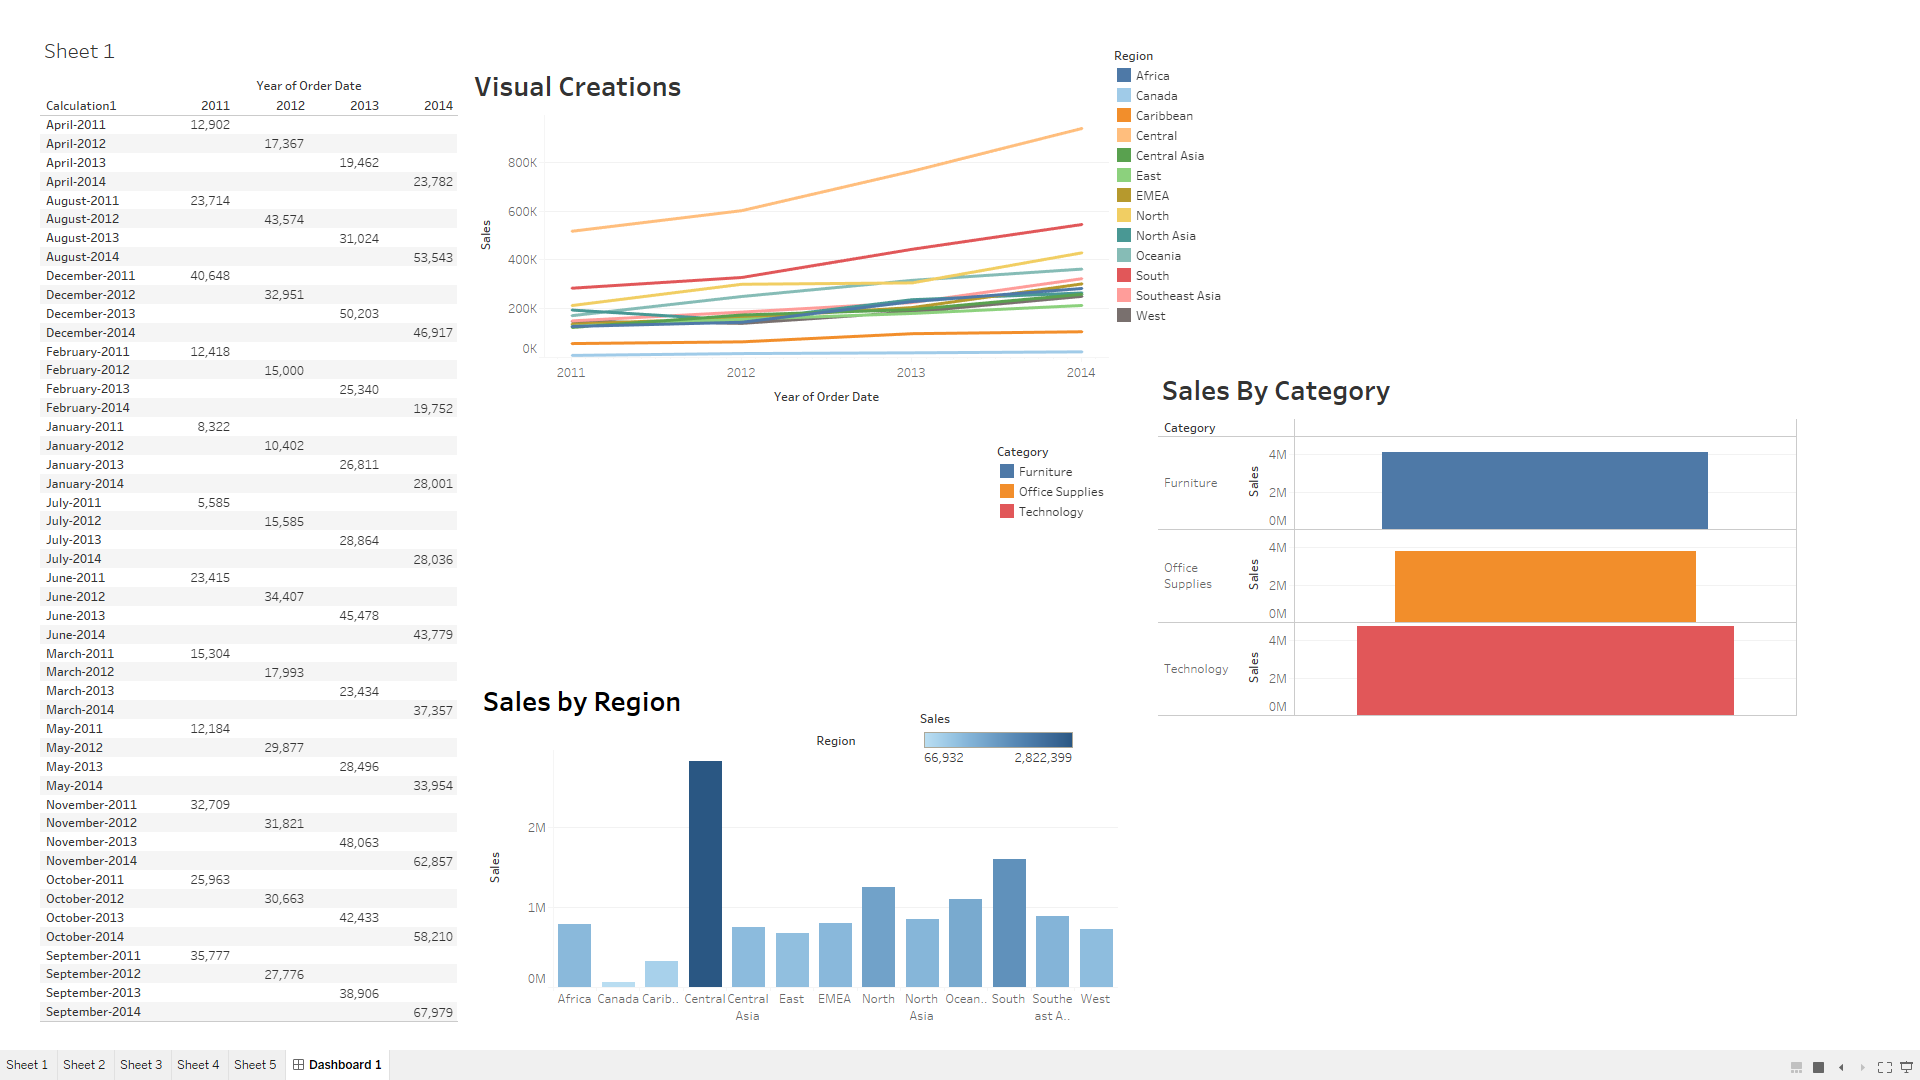

What the dashboard file says about the page in this screenshot:
{"tool":"tableau","page":{"name":"Dashboard 1","canvas":[1000,1000],"units":"permille","ordinal":0},"visuals":[{"type":"worksheet","title":"Sheet 1","mark":"Automatic","rows":["Calculation_905786481205129219"],"cols":["order_date"],"box":[21.1,30.7,217.7,942.8]},{"type":"legend","title":"Sheet 2","param":"[federated.0dmps8w06c5hgv148y3nc1tnxcud].[none:region:nk]","box":[580.5,44.5,81.9,294.5]},{"type":"worksheet","title":"Sheet 2","mark":"Automatic","rows":["sales"],"cols":["order_date"],"box":[244.6,60.4,332.9,332.6]},{"type":"worksheet","title":"Sheet 4","mark":"Automatic","rows":["category","sales"],"box":[603.3,349.6,332.9,332.6]},{"type":"legend","title":"Sheet 4","param":"[federated.0dmps8w06c5hgv148y3nc1tnxcud].[none:category:nk]","box":[519,421.6,81.9,82.6]},{"type":"worksheet","title":"Sheet 3","mark":"Automatic","rows":["sales"],"cols":["region"],"box":[249.3,646.2,332.9,332.6]},{"type":"legend","title":"Sheet 3","param":"[federated.0dmps8w06c5hgv148y3nc1tnxcud].[sum:sales:qk]","box":[479.2,675.9,81.9,80.5]}]}

Visuals, with their boxes on the dashboard's canvas, which has no fixed pixel size, in thousandths of its width and height (x1, y1, x2, y2). These are canvas units, not pixel positions in the 1920x1080 screenshot, which may show the page scaled, cropped or inside an application window:
"Sheet 1" worksheet: bbox(21, 31, 239, 974)
"Sheet 2" legend: bbox(580, 44, 662, 339)
"Sheet 2" worksheet: bbox(245, 60, 578, 393)
"Sheet 4" worksheet: bbox(603, 350, 936, 682)
"Sheet 4" legend: bbox(519, 422, 601, 504)
"Sheet 3" worksheet: bbox(249, 646, 582, 979)
"Sheet 3" legend: bbox(479, 676, 561, 756)
